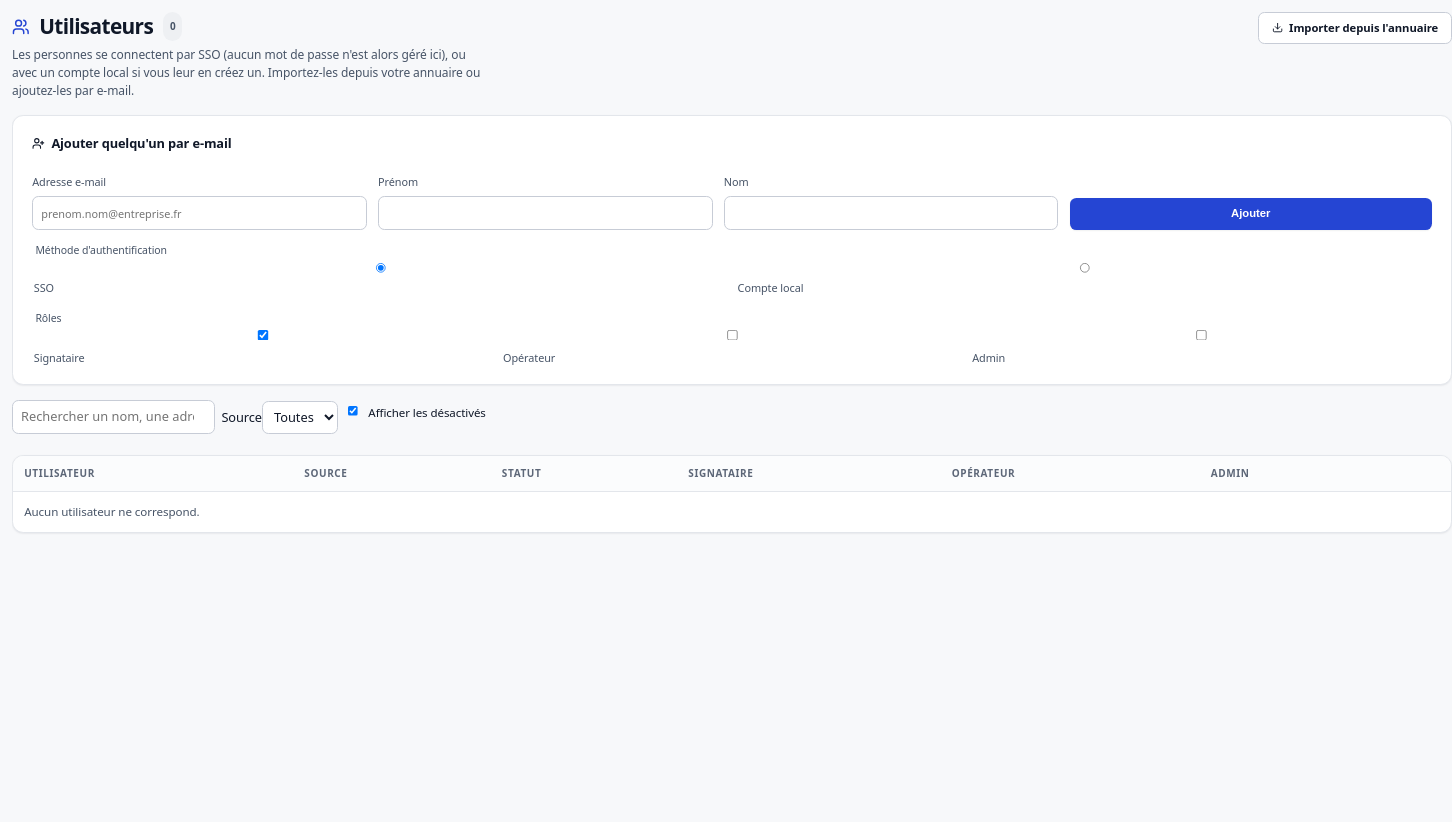
AdminUsersPage — adding someone › asks for a password for a local account, sends it once and clears it
The width and height of the screenshot is (1452, 822).
Type "bob@corp.test" into the field labelled "Adresse e-mail".
click(200, 213); type("bob@corp.test")  # box [32,196,367,230]
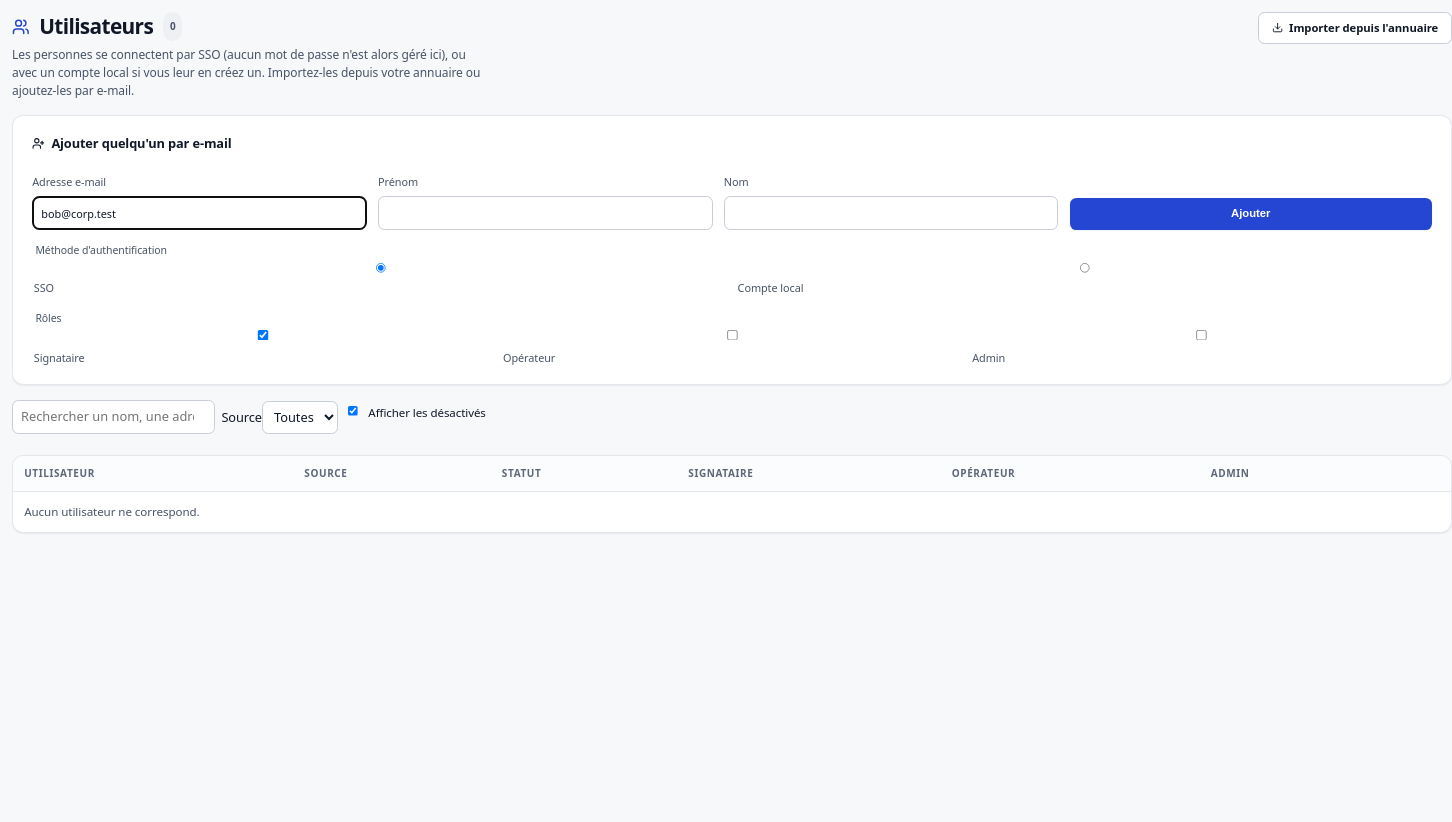
Click the radio button labelled "Compte local".
click(1085, 268)  # box [742,263,1428,273]
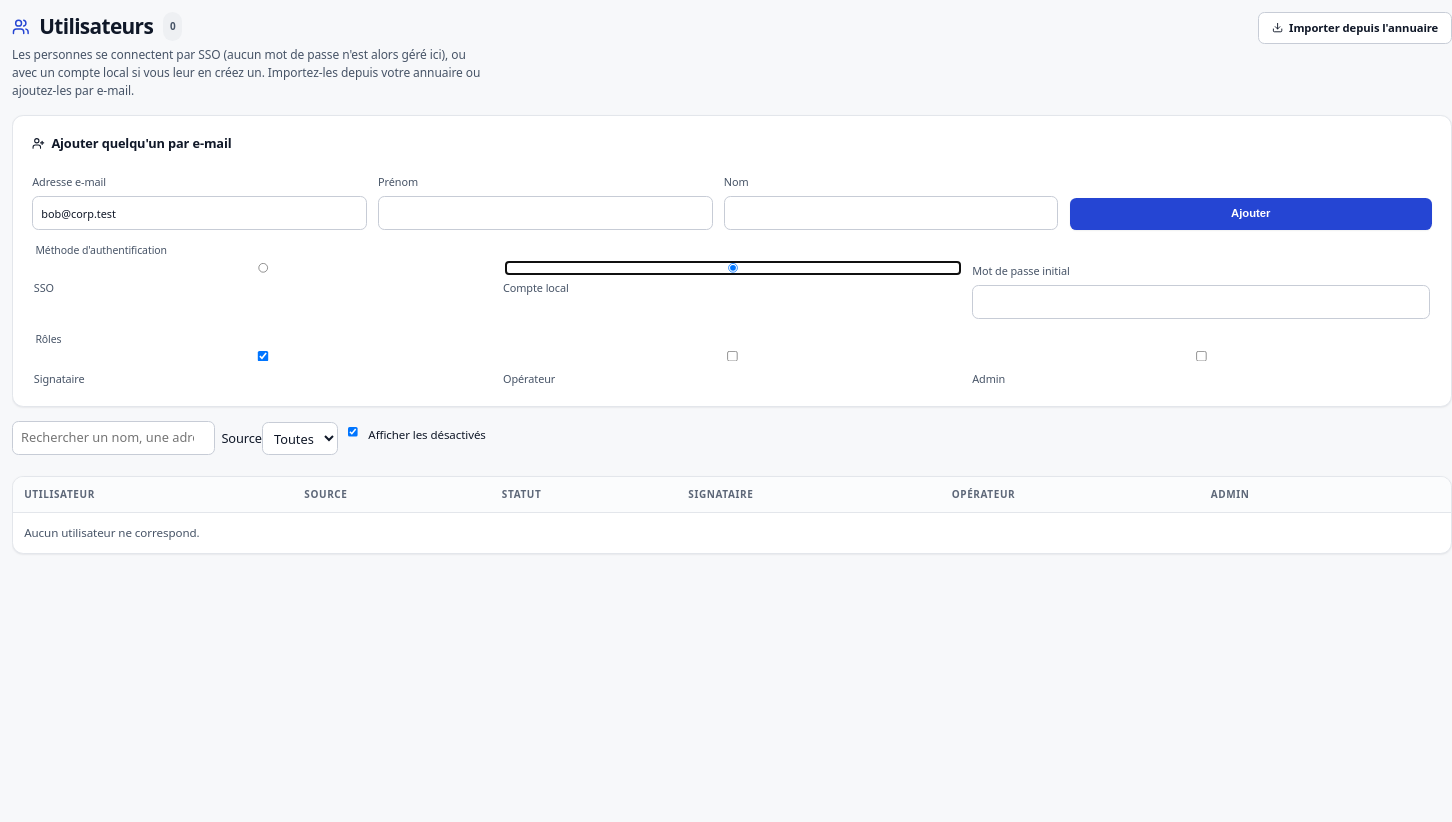
Type "FAKE-INITIAL-PW" into the password field labelled "Mot de passe initial".
click(1201, 302); type("FAKE-INITIAL-PW")  # box [972,284,1430,318]
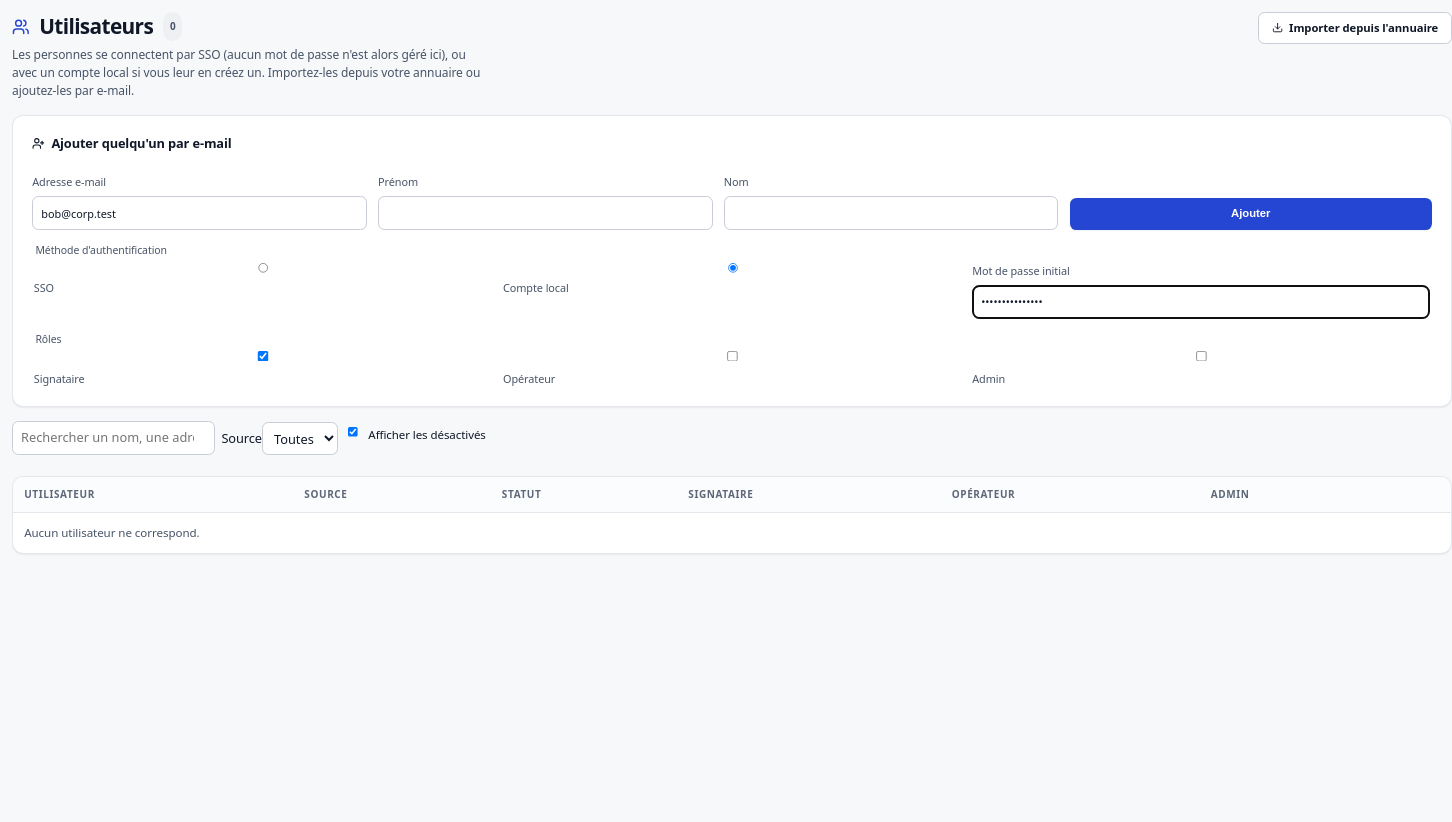
Click the button "Ajouter".
click(1251, 214)  # box [1070,198,1432,230]
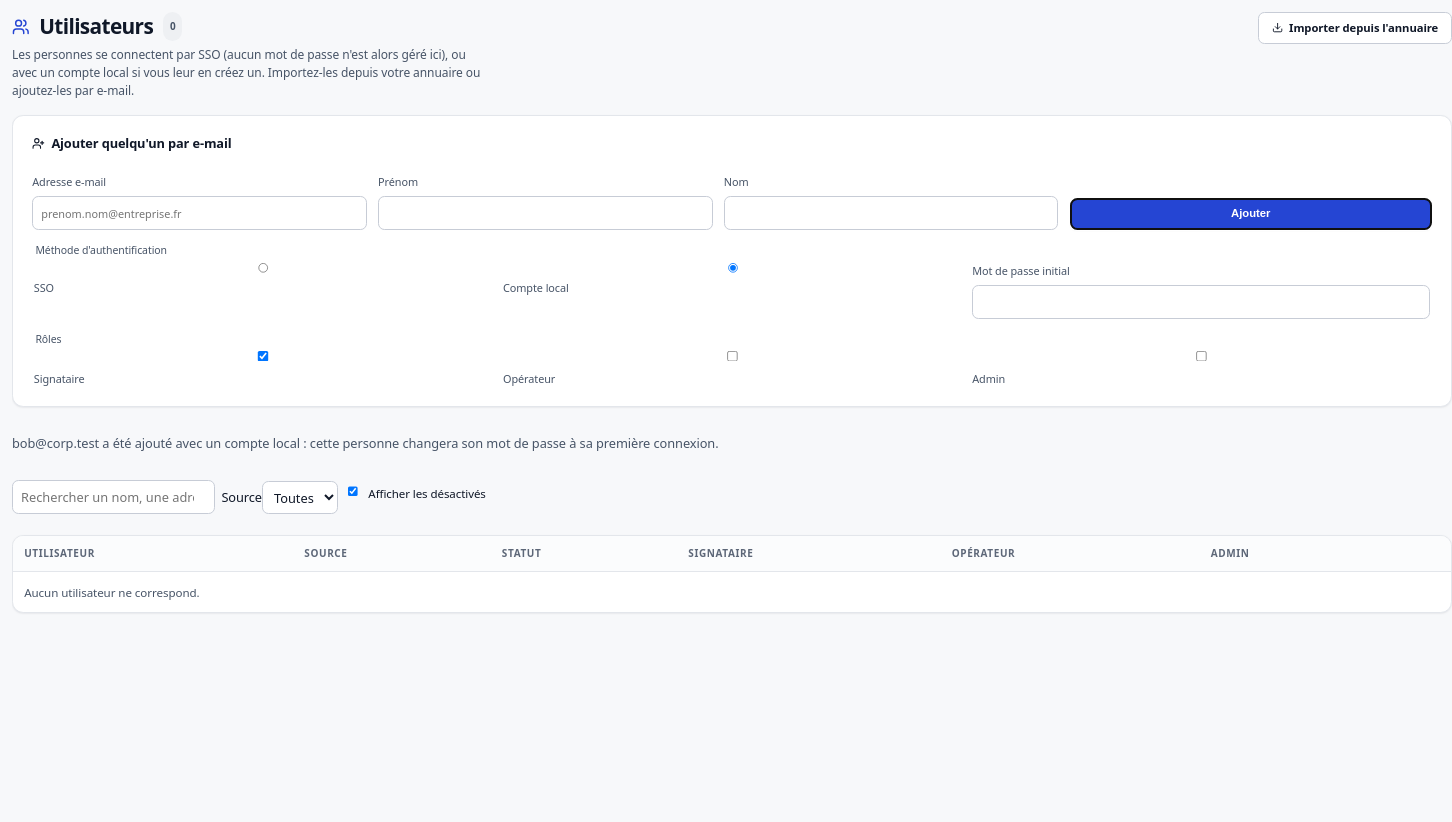
Now the message shows "changera son mot de passe", box [12,434,718,452]
